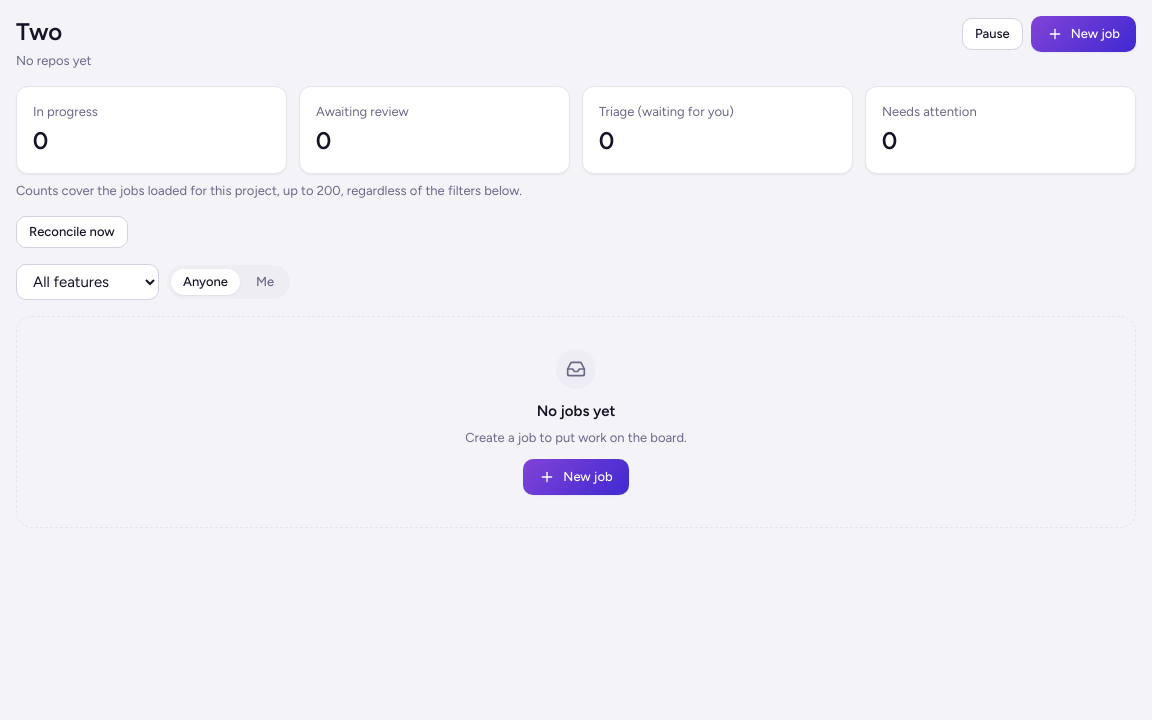
Test: Dashboard reconcile and sync placement › reconciles the selected project, never the global endpoint
The width and height of the screenshot is (1152, 720).
What coordinates should you click on to do the following:
click the button "Reconcile now"
I would click on:
 (72, 232)
Its box is 16,216 -> 128,248.
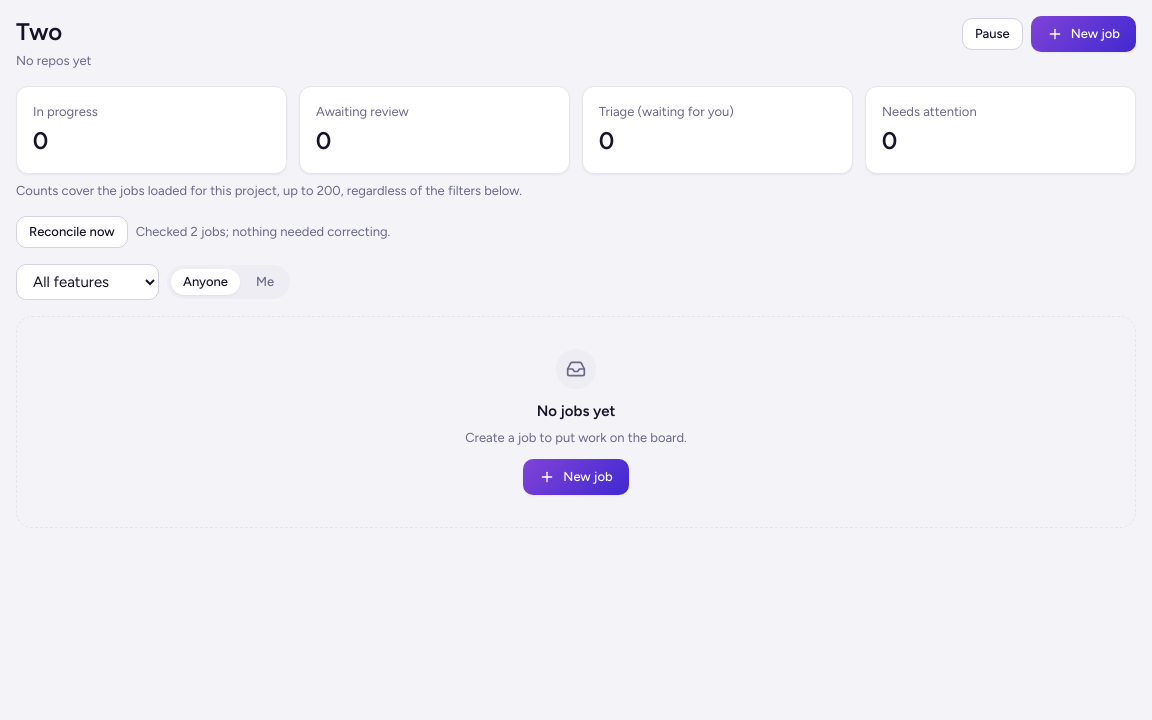
Now the message reads "Checked 2 jobs; nothing needed correcting.", box 136,224 -> 390,239
